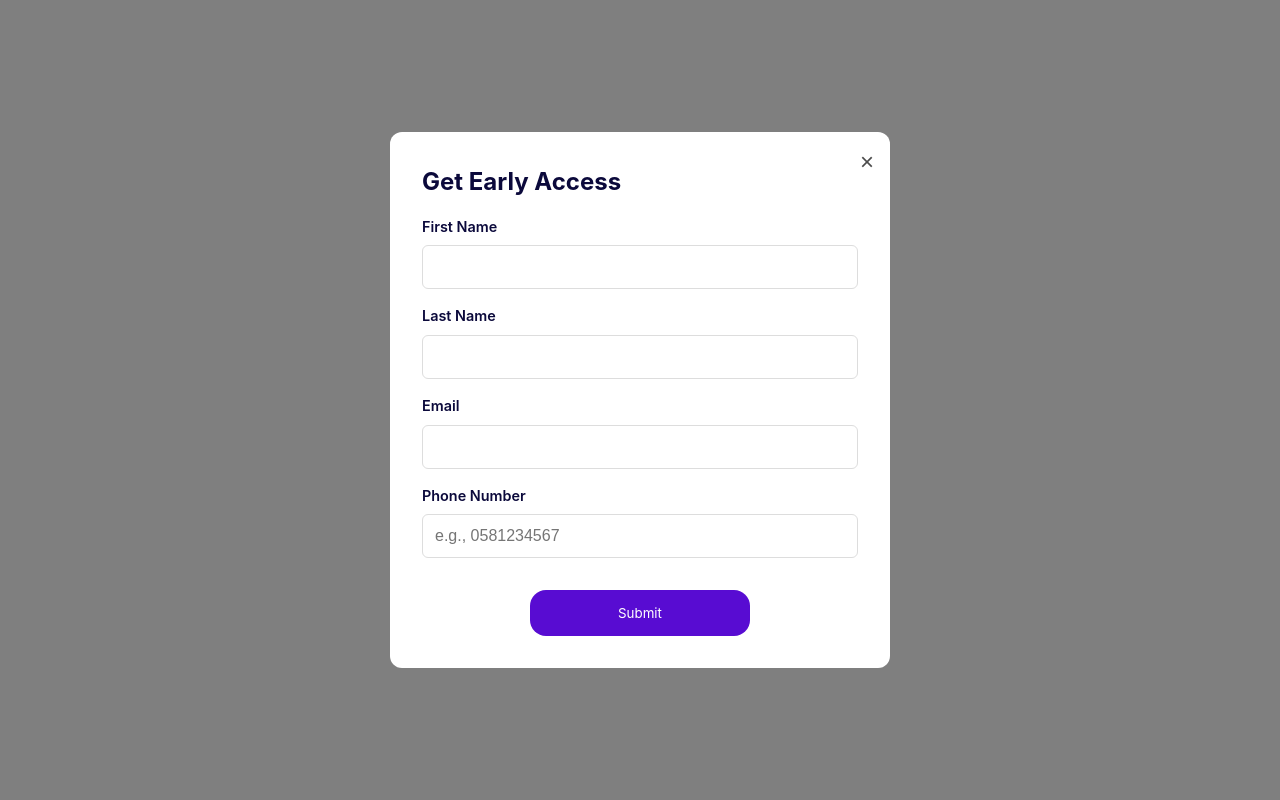
Test case: ContactForm Modal › validates required fields before submission
Click the button "Submit" at [640, 613], box [530, 590, 750, 636]
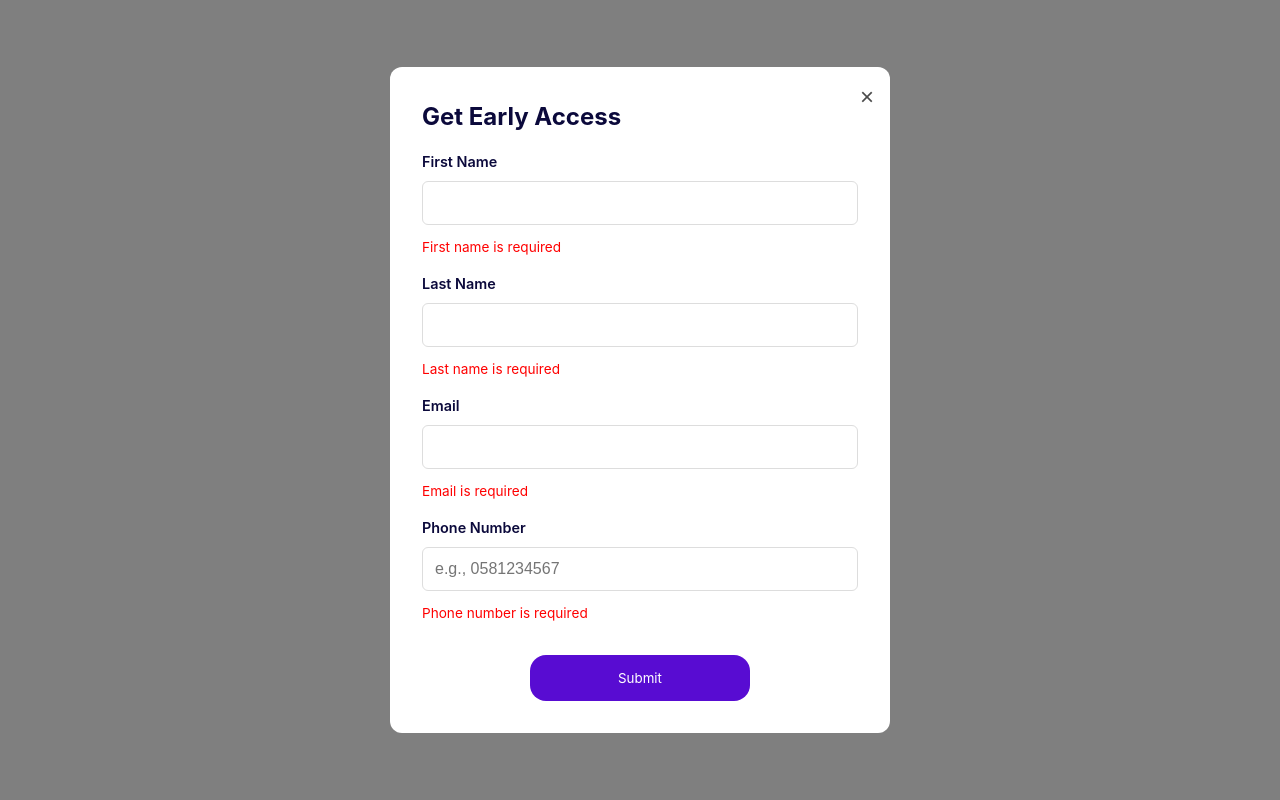
Expected: the text "First name is required" is shown, [422, 239, 561, 255]
Expected: the text "Last name is required" is shown, [422, 361, 560, 377]
Expected: the text "Email is required" is shown, [422, 483, 528, 499]
